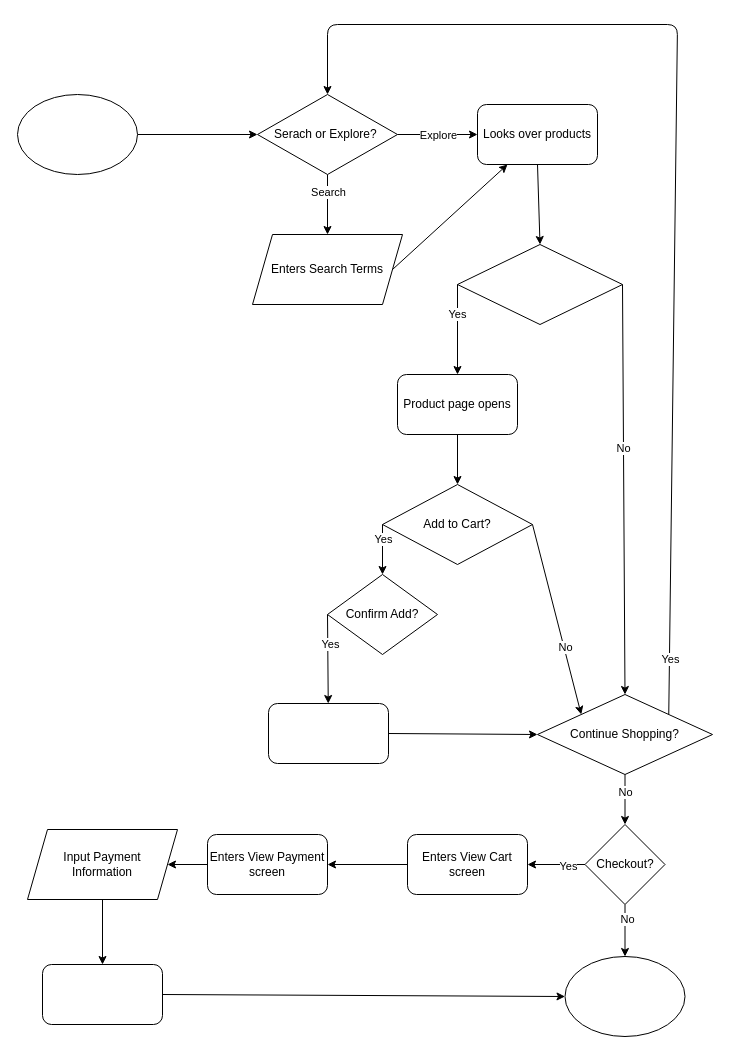
This 730x1054 diagram has some shape labels left out. The shapes that lost their labels are listed below. From the top down, each one's centre as x and y in pixels, then its label:
At pixel 77 134: "User Enters Website".
At pixel 539 284: "View Specific Product?".
At pixel 328 733: "Product is added to cart".
At pixel 102 994: "See order confirmation screen and receive email".
At pixel 624 996: "User Leaves Website".
